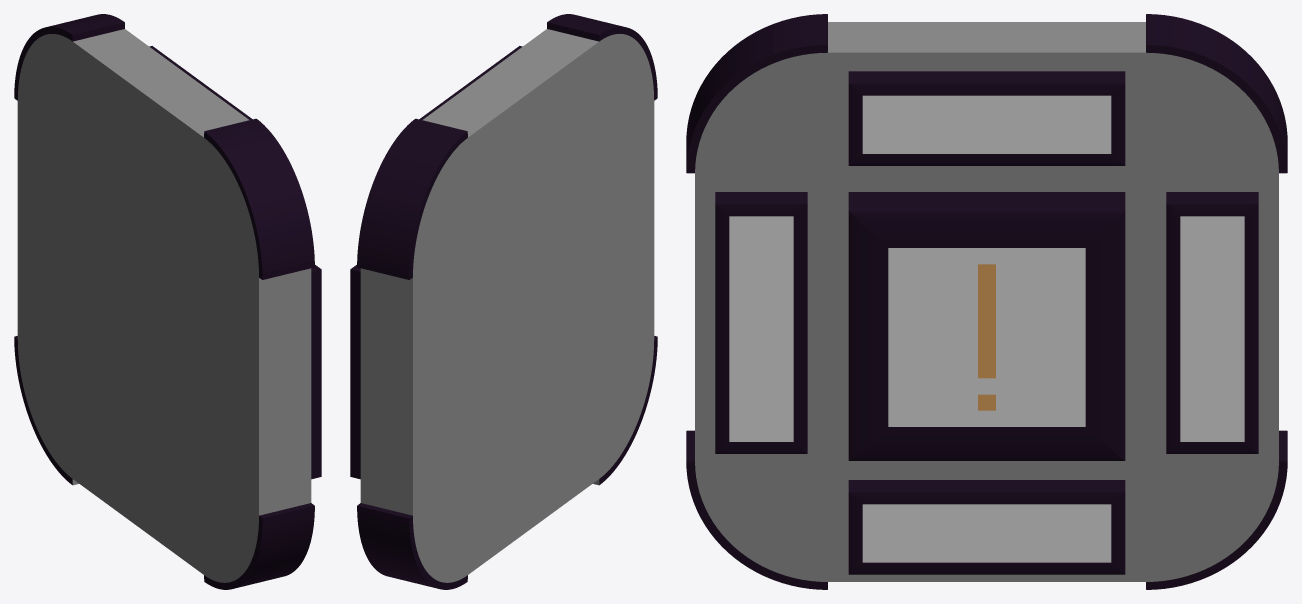
The model's file is turret_control_head_1.fbx.
3 renders of one model, left to right at view 1: azimuth 30°, elevation 25°; view 2: azimuth 150°, elevation 25°; view 3: azimuth 270°, elevation 25°, orthographic. The views are drawn at different scales.
Visible parts, largest first — view 1: Cube; view 2: Cube; view 3: Cube.
Boxes of the visible parts, <box> form: Cube: <box>14,14,321,589</box>; Cube: <box>350,14,657,589</box>; Cube: <box>686,14,1287,589</box>.
Bounding box in the file's own units: 82.69 × 412 × 412.
